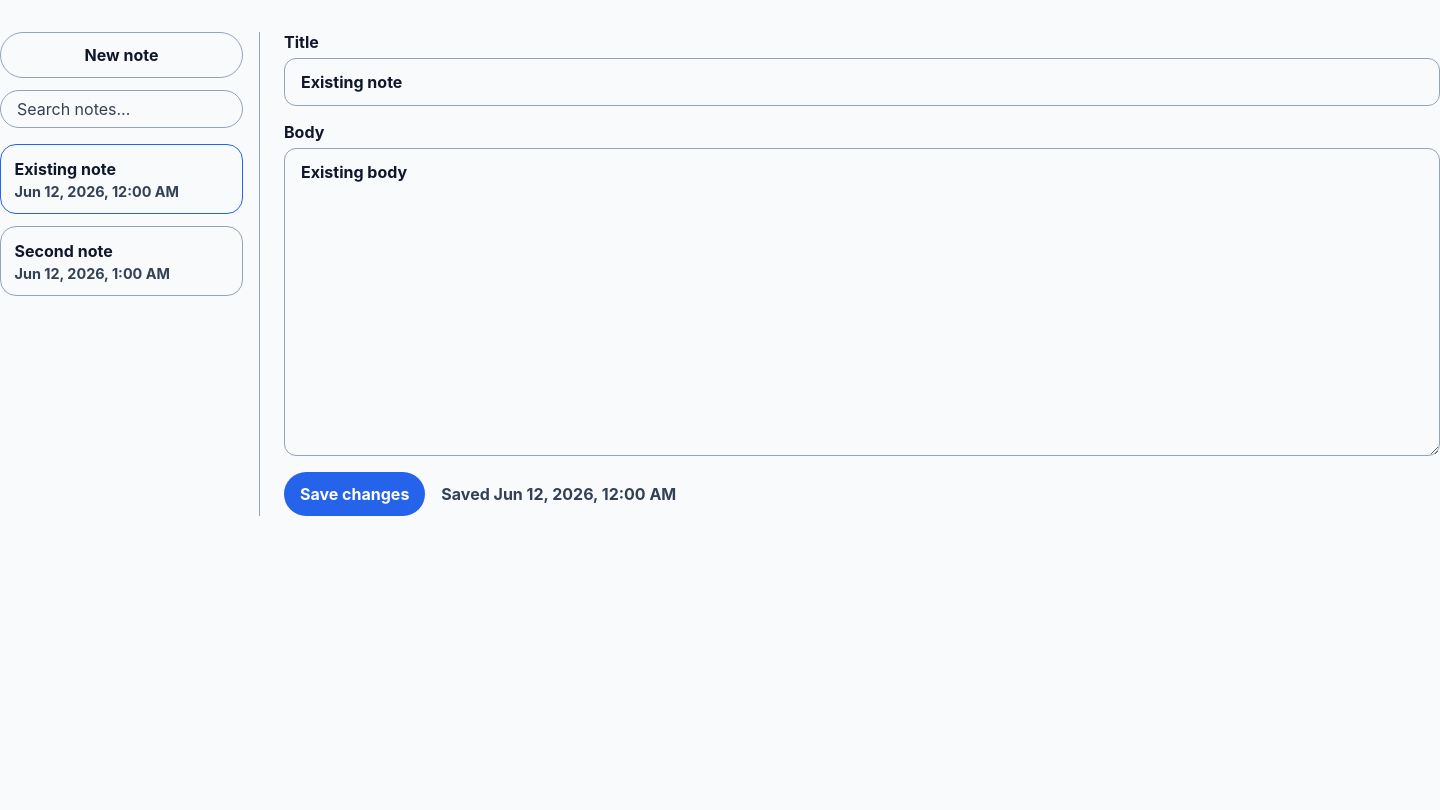
Test case: NoteEditor › unsaved changes guard › keeps editor state when canceling discard
The width and height of the screenshot is (1440, 810).
Type " modified" into the field labelled "Title" at (862, 82), box [284,58,1439,106]
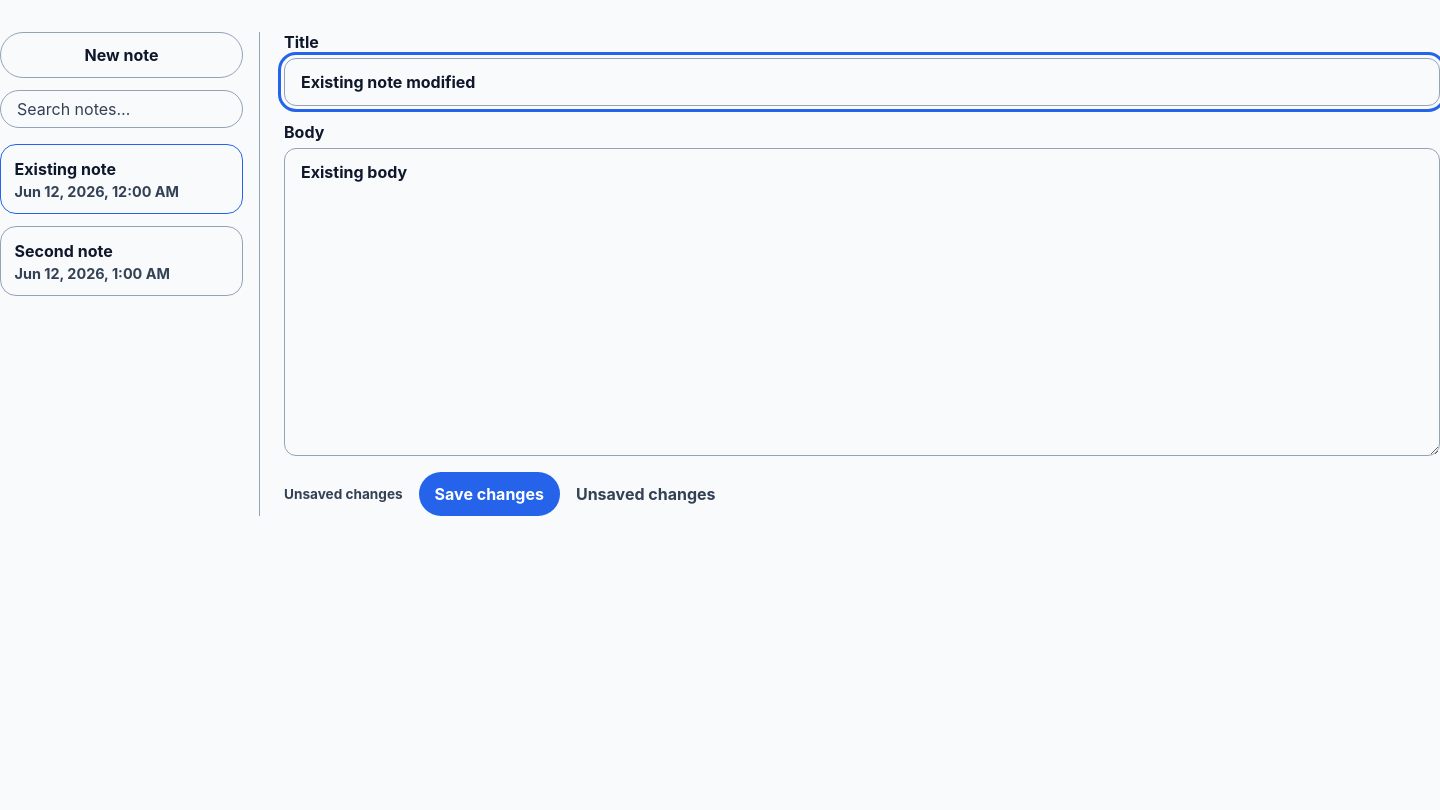
Click on second note while dirty
Click the text "Second note" at (64, 251), box [15,241,113,261]
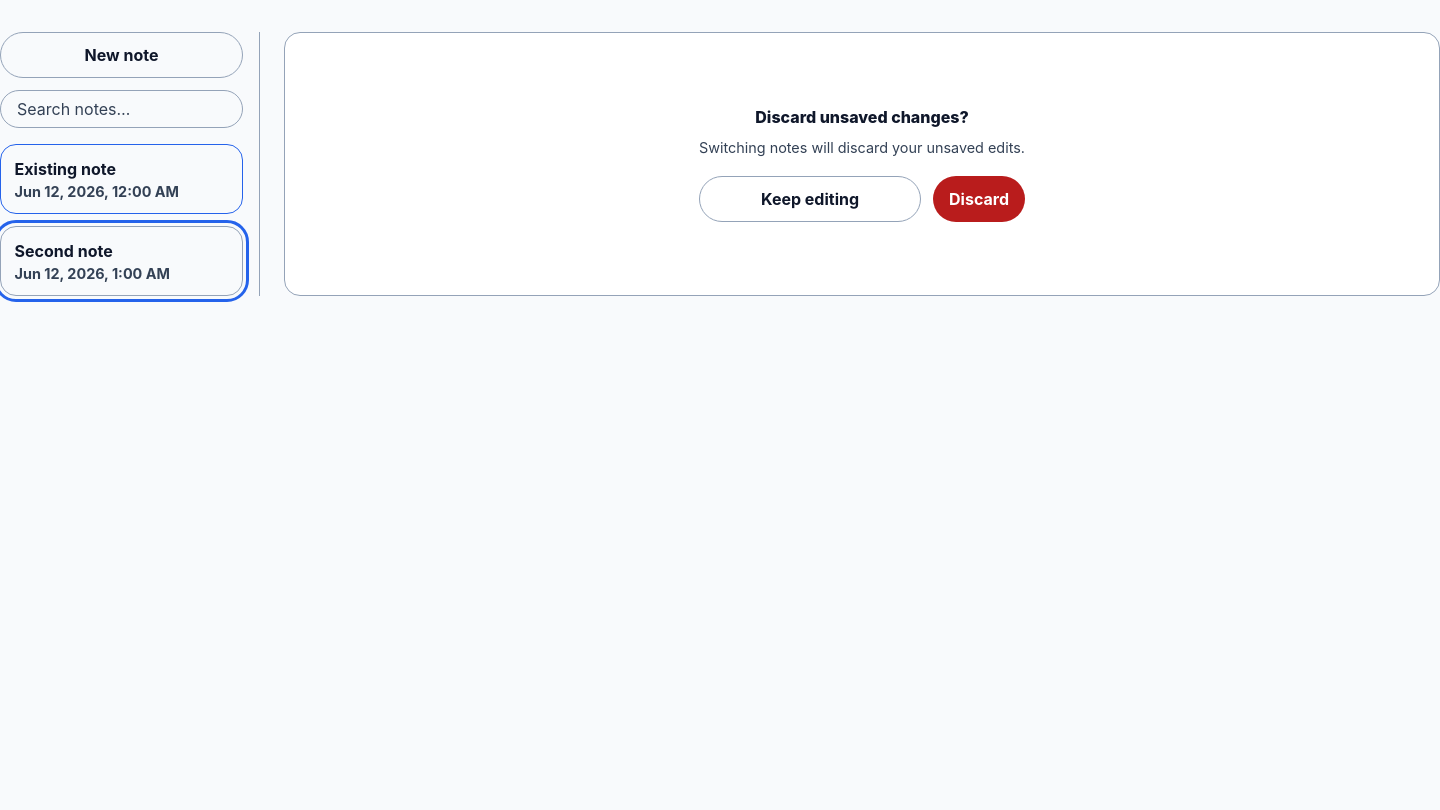
Cancel the discard
Click the button "Keep editing" at (810, 199), box [699,176,921,222]
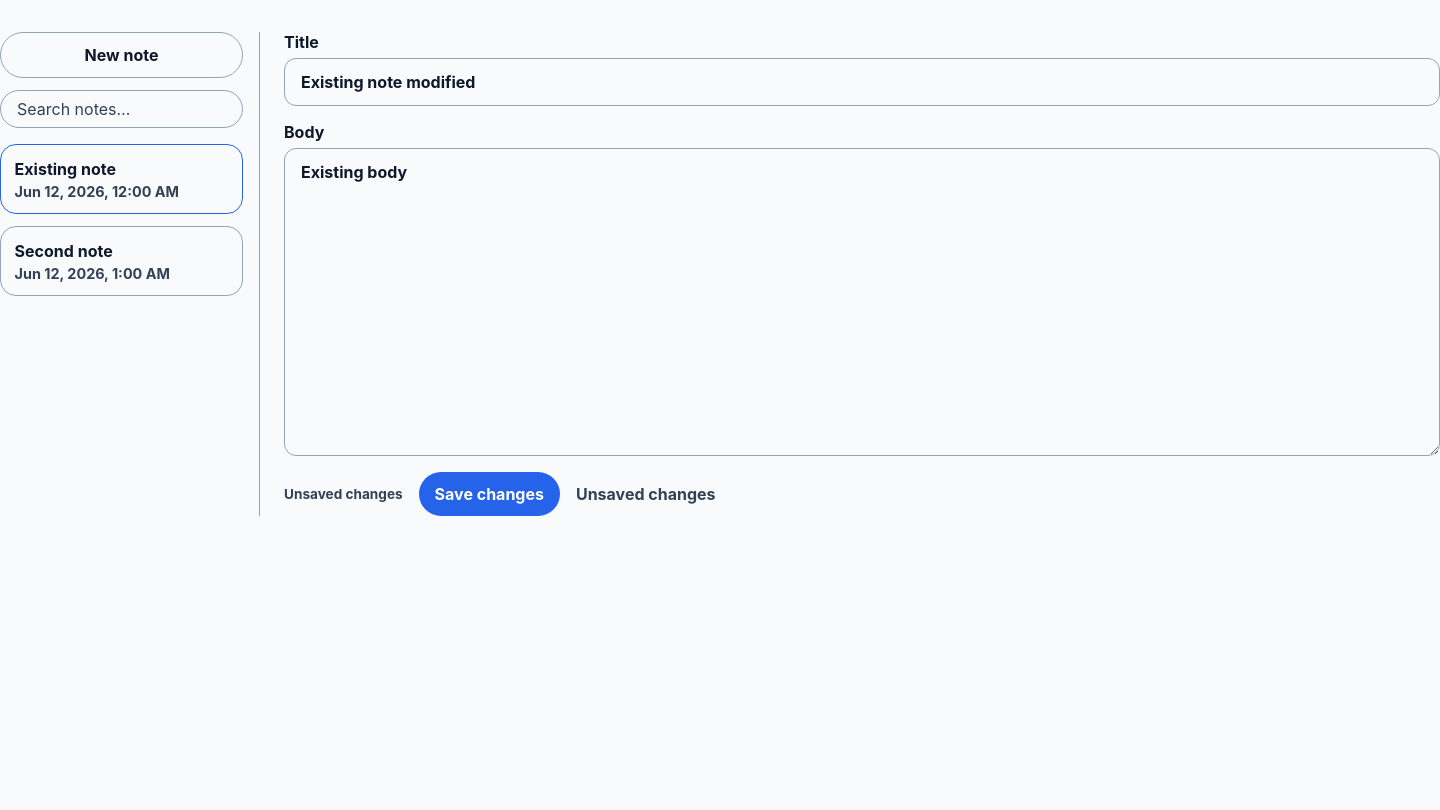
Expected: the field labelled "Title" holds "Existing note modified", [284,58,1439,106]
Expected: the dialog is gone
